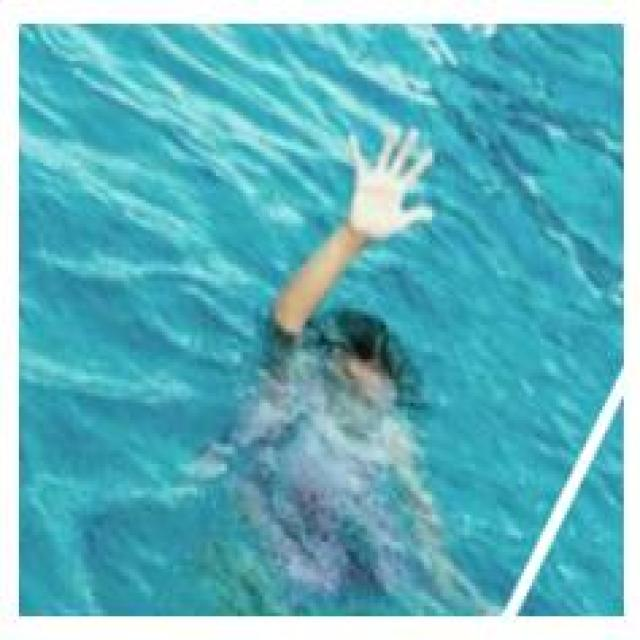Out of Water: (265, 119, 448, 488)
